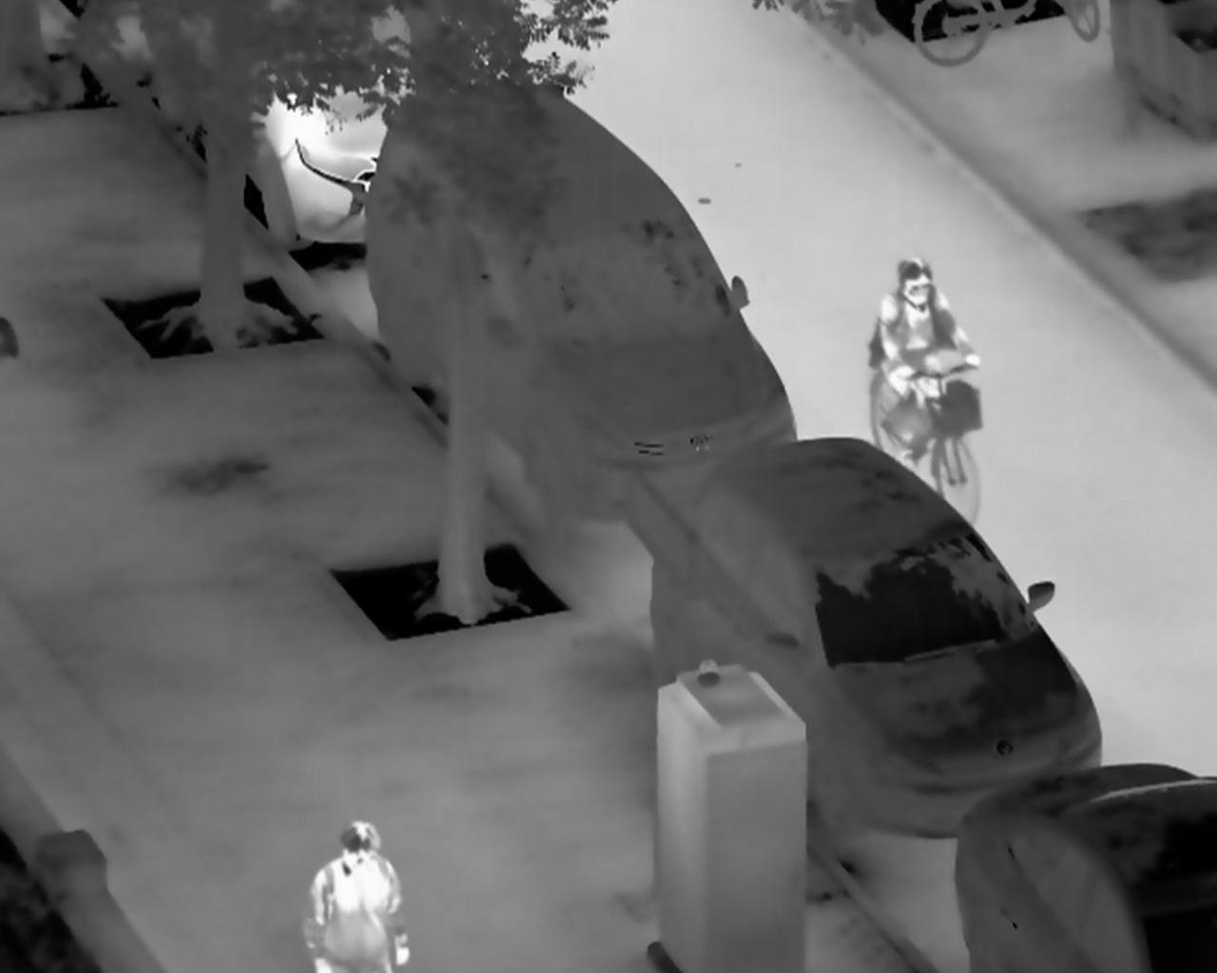person: (871, 260, 981, 442), (299, 822, 409, 973)
